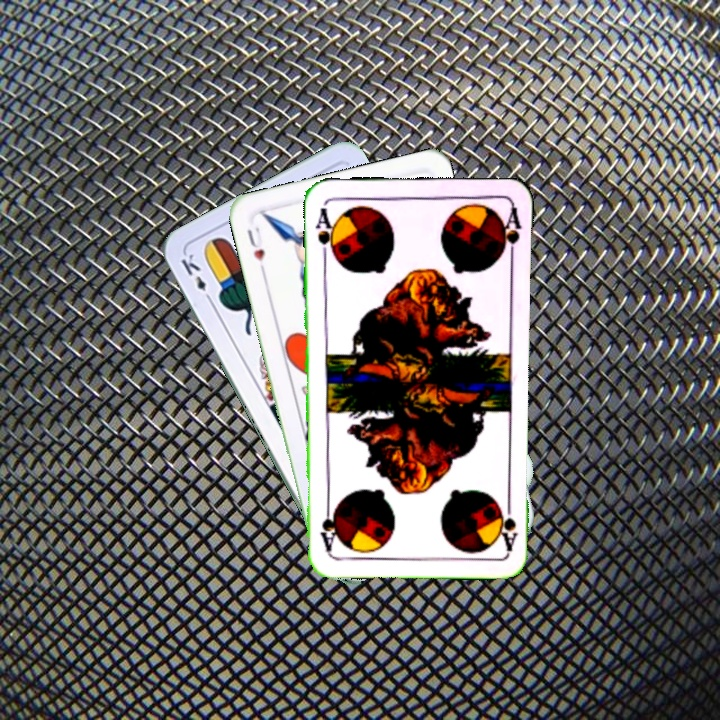EK: (177, 249, 216, 306)
HU: (243, 222, 268, 276)
SA: (311, 203, 338, 261), (495, 494, 520, 553)
